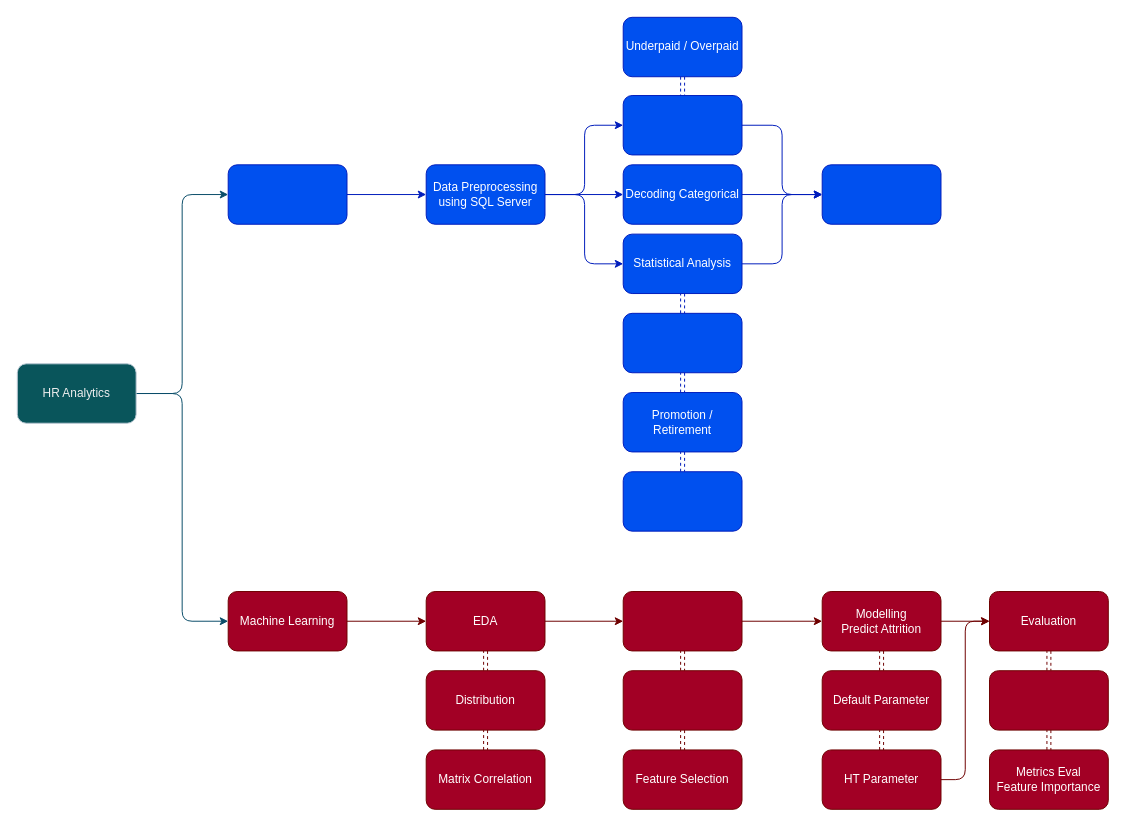
Image size: 1126x827. Some labels were removed from this diagram. The shapes that lost their labels are listed below. From the top down, each one's centre as x and y in pixels, then its label:
At (x=682, y=125): "Outliers in Salary".
At (x=287, y=194): "Business Intelligence".
At (x=881, y=194): "Report using Power BI".
At (x=682, y=342): "Attrition Rate".
At (x=682, y=501): "Satisfaction".
At (x=682, y=621): "Feature Engineering".
At (x=682, y=700): "Encoding Categorical".
At (x=1048, y=700): "Model Algorithm".
